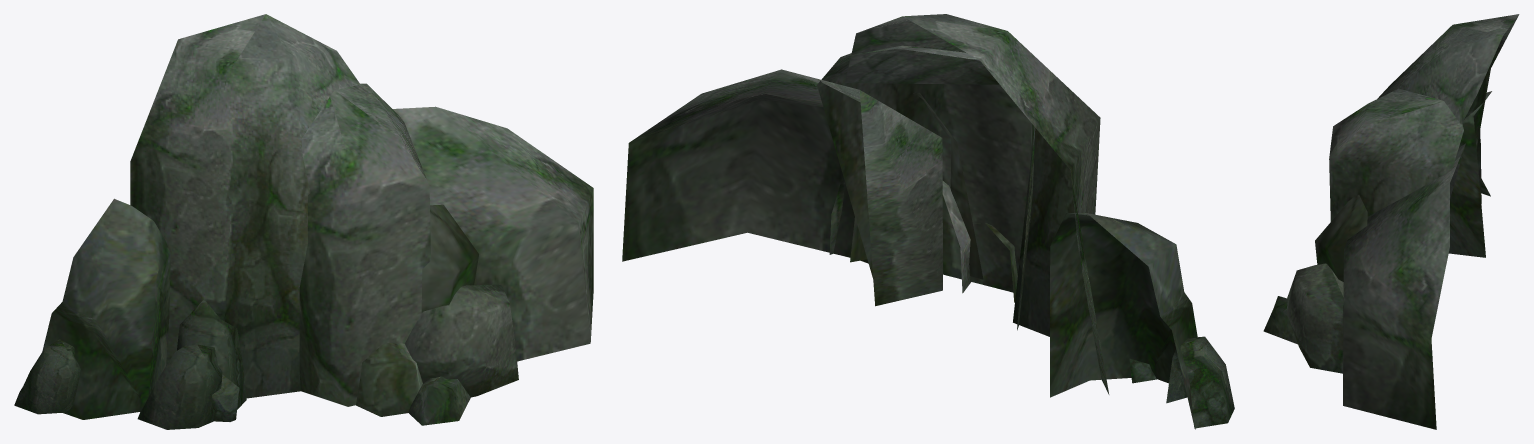
The model's file is yw_wuliangshan_dimianfengbian02.FBX.
3 renders of one model, left to right at view 1: azimuth 30°, elevation 25°; view 2: azimuth 150°, elevation 25°; view 3: azimuth 270°, elevation 25°, orthographic. The views are drawn at different scales.
Visible parts, largest first — view 1: yw_wuliangshan_dimianfengbian02; view 2: yw_wuliangshan_dimianfengbian02; view 3: yw_wuliangshan_dimianfengbian02.
Boxes of the visible parts, x1,y1,x2,y2 form: yw_wuliangshan_dimianfengbian02: (14, 14, 593, 429); yw_wuliangshan_dimianfengbian02: (622, 14, 1234, 429); yw_wuliangshan_dimianfengbian02: (1263, 14, 1519, 429).
Size of the model in its own units: 438 by 238 by 202.
